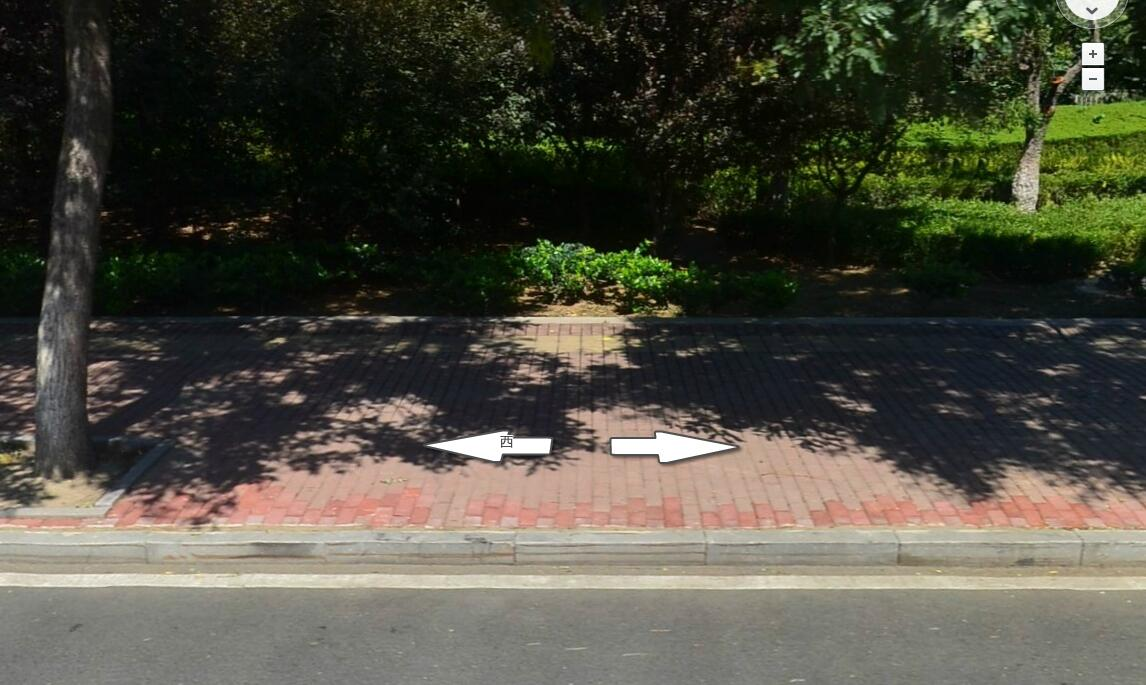side: (705, 527, 902, 568), (894, 525, 1085, 567), (515, 529, 709, 566), (320, 529, 516, 564), (143, 530, 321, 560)
